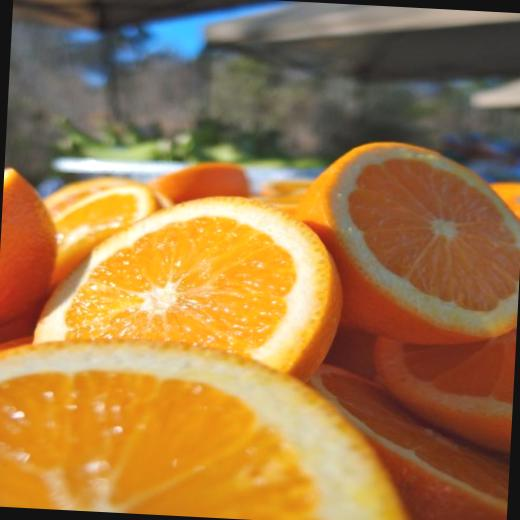Grape: (0, 325, 417, 520), (30, 186, 347, 378), (292, 133, 520, 348), (298, 358, 514, 520), (366, 326, 516, 453), (52, 178, 157, 288), (0, 166, 62, 331), (37, 174, 167, 222), (156, 160, 254, 208)
